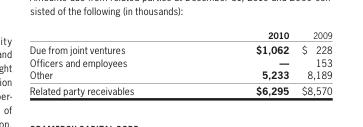table: (29, 29, 331, 95)
table column: (29, 29, 194, 95), (194, 29, 294, 95), (294, 29, 331, 95)
table column header: (29, 29, 331, 41)
table row: (29, 41, 331, 55), (29, 68, 331, 82), (29, 55, 331, 68), (29, 82, 331, 95), (29, 29, 331, 41)
